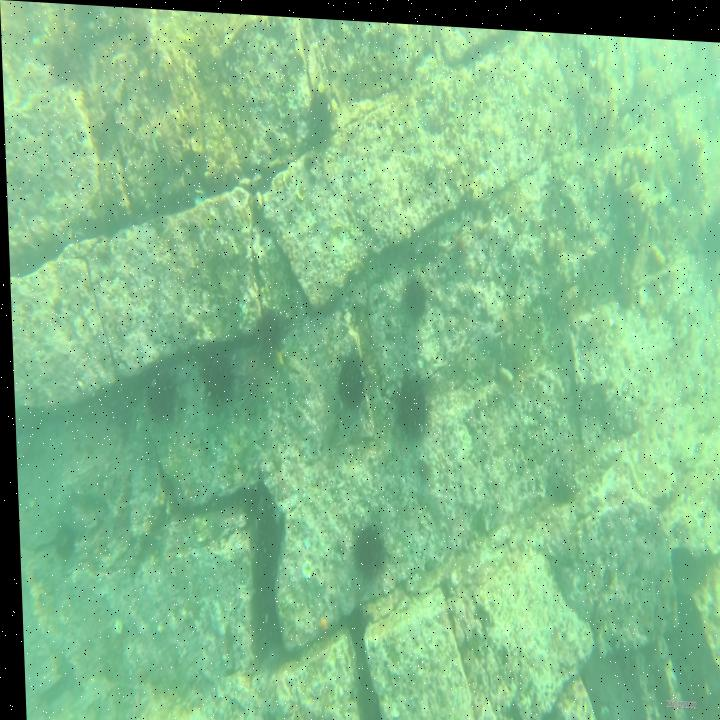echinus: (137, 105, 184, 167), (236, 359, 271, 426), (391, 369, 425, 432), (348, 520, 385, 576), (141, 366, 175, 418), (338, 348, 365, 411), (196, 346, 226, 402), (249, 311, 282, 360), (310, 81, 334, 146), (401, 266, 428, 313), (696, 206, 720, 256), (49, 522, 72, 563)
